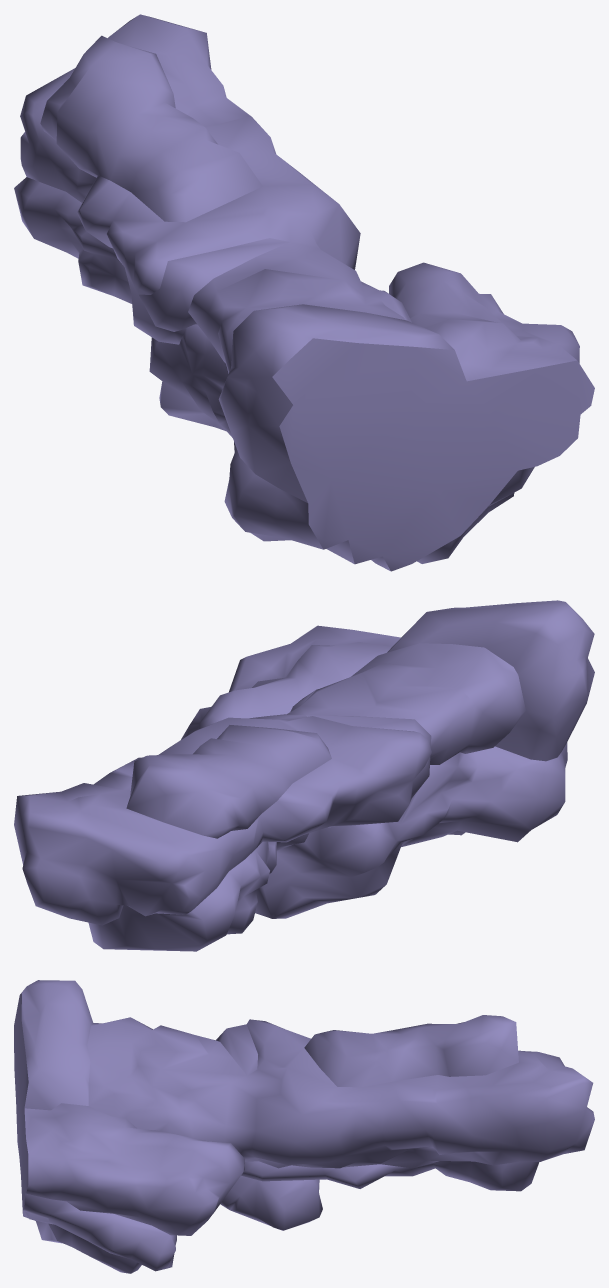
Rendered from Rock_0014.FBX.
3 renders of one model, top to bottom at view 1: azimuth 30°, elevation 25°; view 2: azimuth 150°, elevation 25°; view 3: azimuth 270°, elevation 25°, orthographic. The views are drawn at different scales.
Visible parts, largest first — view 1: Rock_0014_LOD0; view 2: Rock_0014_LOD0; view 3: Rock_0014_LOD0.
Part boxes in pixels (<box>): Rock_0014_LOD0: <box>14,14,594,571</box>; Rock_0014_LOD0: <box>14,600,594,951</box>; Rock_0014_LOD0: <box>14,980,594,1273</box>.
Size of the model in its own units: 224 by 421 by 175.
